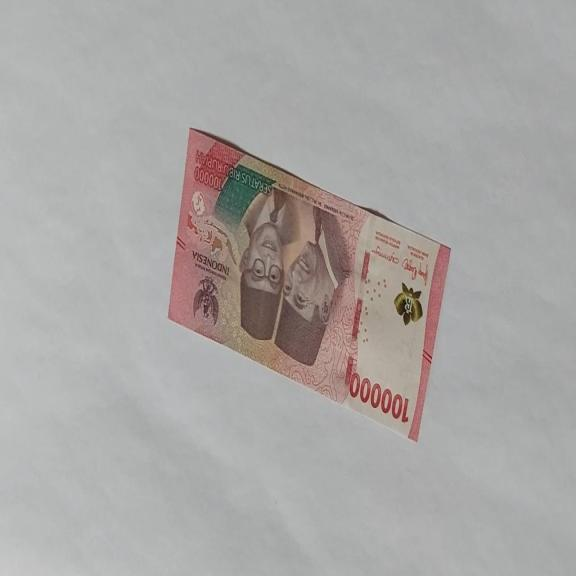Kertas: (167, 125, 452, 443), (348, 370, 410, 424)
